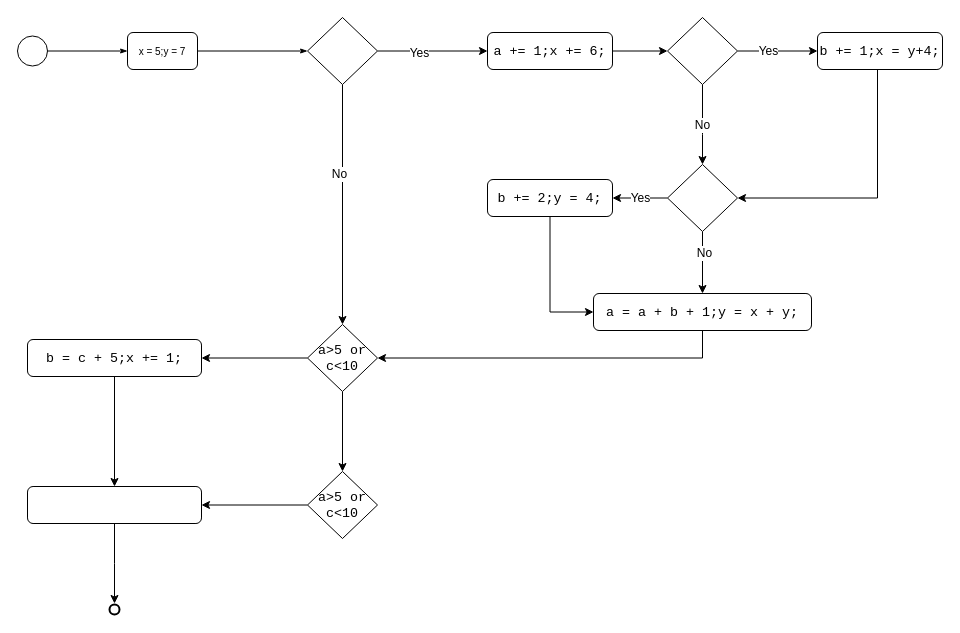
This 960x633 diagram has some shape labels left out. Each missing label, with the centre of its shape:
"a<10 or c==20" belongs at point (702, 198).
"a==10 or b>20?" belongs at point (702, 50).
"a>b and b>c?" belongs at point (342, 50).
"p. x = x; p. y = y;" belongs at point (114, 505).
